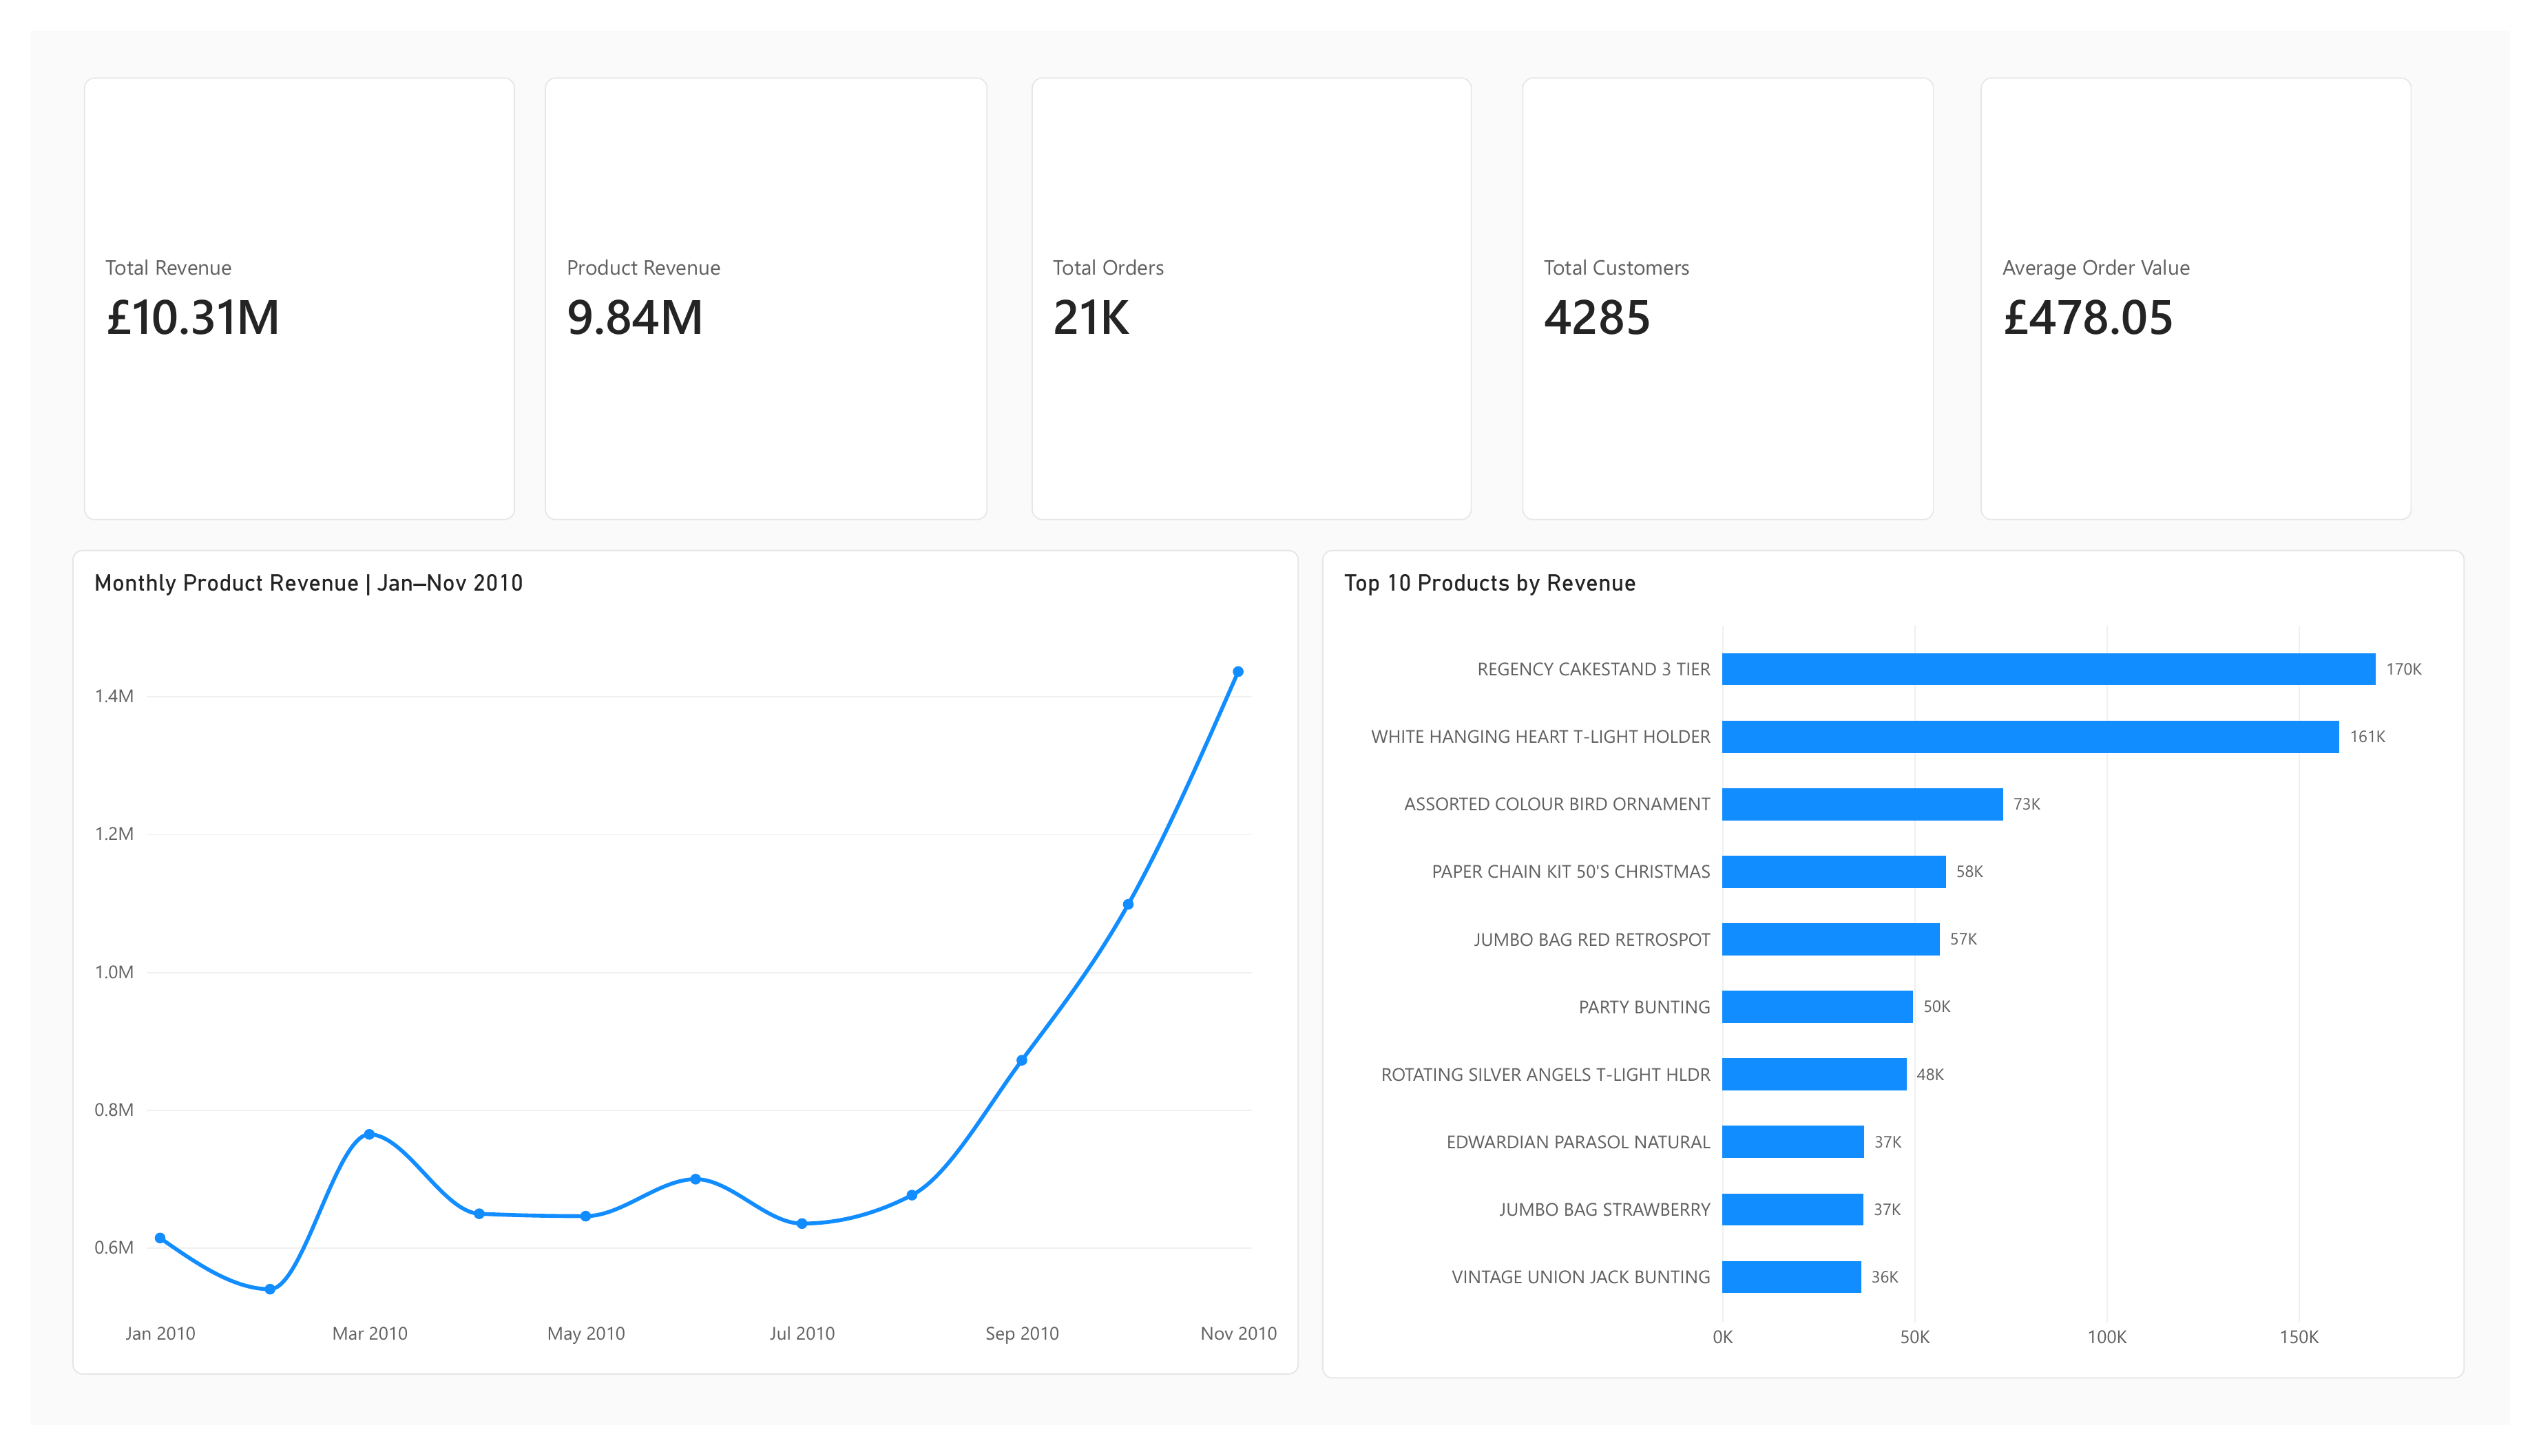

This screenshot's page, from the dashboard's own definition file:
{"tool":"powerbi","page":{"name":"Executive Overview","canvas":[1920,1080],"ordinal":0},"visuals":[{"type":"cardVisual","fields":{"Data":["sales_analysis.Total Revenue"]},"box":[40.6,35.8,334,343.6],"z":0},{"type":"cardVisual","fields":{"Data":["sales_analysis.Product Revenue"]},"box":[398.4,35.8,343.6,343.6],"z":1000},{"type":"cardVisual","fields":{"Data":["sales_analysis.Total Orders"]},"box":[775.4,35.8,341.2,343.6],"z":2000},{"type":"cardVisual","fields":{"Data":["sales_analysis.Total Customers"]},"box":[1154.8,35.8,319.7,343.6],"z":3000},{"type":"cardVisual","fields":{"Data":["sales_analysis.Average Order Value"]},"box":[1510.3,35.8,334,343.6],"z":4000},{"type":"lineChart","title":"Monthly Product Revenue | Jan–Nov 2010","fields":{"Category":["sales_analysis.invoice_date.Variation.Date Hierarchy.Year","sales_analysis.invoice_date.Variation.Date Hierarchy.Quarter","sales_analysis.invoice_date.Variation.Date Hierarchy.Month","sales_analysis.invoice_date.Variation.Date Hierarchy.Day"],"Y":["sales_analysis.Product Revenue"]},"box":[32,402,949.6,639.4],"z":5000},{"type":"clusteredBarChart","title":"Top 10 Products by Revenue","fields":{"Category":["sales_analysis.description"],"Y":["sales_analysis.Product Revenue"]},"box":[1000,402,885.2,641.8],"z":6000}]}

Visuals, with their boxes in screenshot pixels (x1, y1, x2, y2), scaled from the page's 1920x1080 canvas onto the 2541x1456 screenshot:
cardVisual - sales_analysis.Total Revenue: (54,48,496,511)
cardVisual - sales_analysis.Product Revenue: (527,48,982,511)
cardVisual - sales_analysis.Total Orders: (1026,48,1478,511)
cardVisual - sales_analysis.Total Customers: (1528,48,1952,511)
cardVisual - sales_analysis.Average Order Value: (1999,48,2441,511)
"Monthly Product Revenue | Jan–Nov 2010" lineChart: (43,542,1299,1404)
"Top 10 Products by Revenue" clusteredBarChart: (1324,542,2495,1407)
